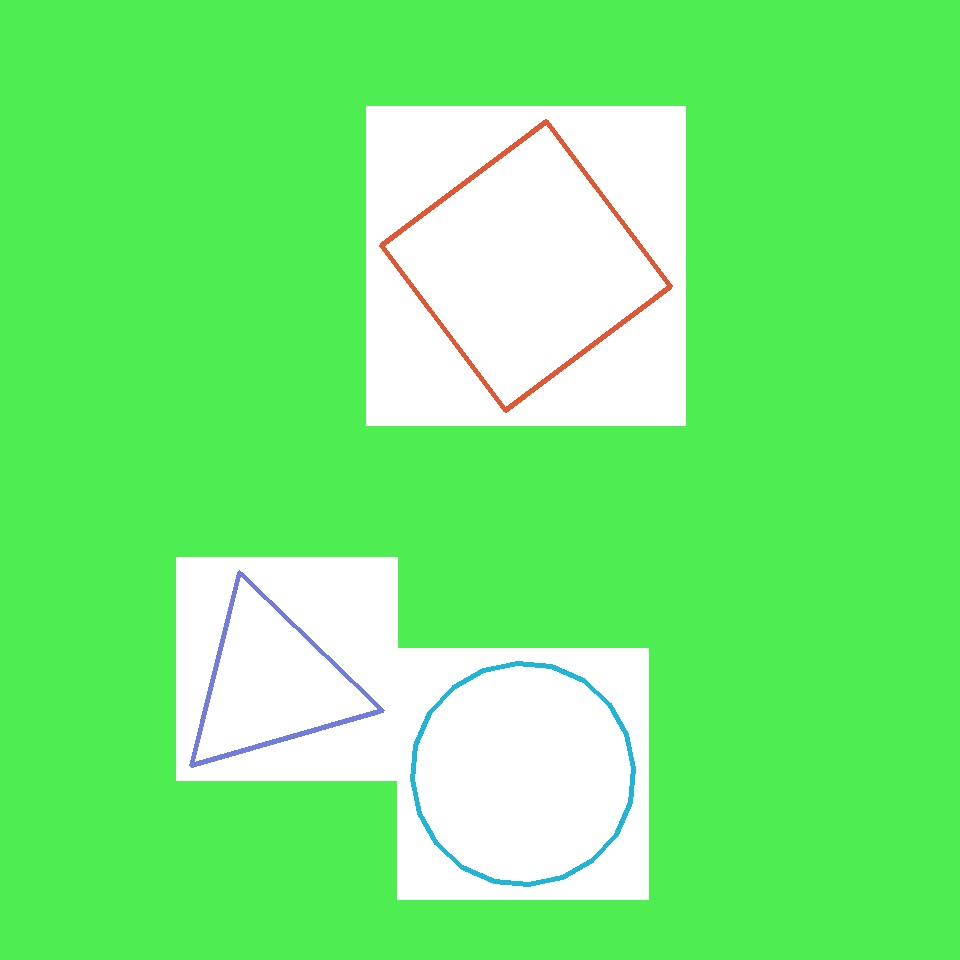circle: (176, 586, 366, 780), (462, 239, 620, 385)
square: (382, 122, 670, 410), (150, 464, 426, 740), (534, 754, 710, 930)
triangle: (74, 140, 330, 394), (412, 664, 634, 884)
